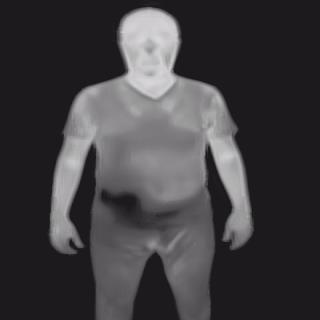Gun: (96, 187, 140, 222)
